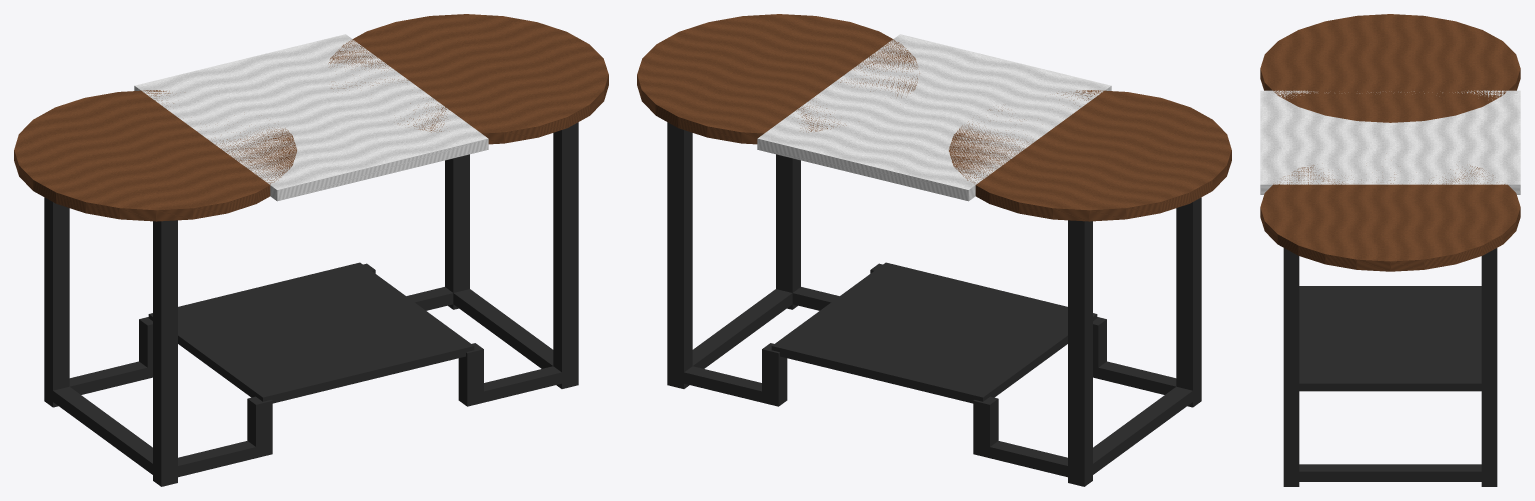
3 renders of one model, left to right at view 1: azimuth 30°, elevation 25°; view 2: azimuth 150°, elevation 25°; view 3: azimuth 270°, elevation 25°, orthographic. The views are drawn at different scales.
Visible parts, largest first — view 1: 1 tabletop_center, 18 lower_shelf, 2 tabletop_left, 3 tabletop_right, 4 leg_front_left, 5 leg_front_right, 6 leg_back_left, 7 leg_back_right, 8 base_rail_left, 9 base_rail_right, 11 lower_rail_front_right, 10 lower_rail_front_left (+5 smaller); view 2: 1 tabletop_center, 18 lower_shelf, 2 tabletop_left, 3 tabletop_right, 6 leg_back_left, 7 leg_back_right, 4 leg_front_left, 5 leg_front_right, 8 base_rail_left, 9 base_rail_right, 13 lower_rail_back_right, 12 lower_rail_back_left (+5 smaller); view 3: 2 tabletop_left, 3 tabletop_right, 1 tabletop_center, 18 lower_shelf, 5 leg_front_right, 7 leg_back_right, 9 base_rail_right, 8 base_rail_left.
Part boxes in pixels (x1=…): 1 tabletop_center: x1=134, y1=34, x2=488, y2=201; 18 lower_shelf: x1=148, y1=262, x2=474, y2=403; 2 tabletop_left: x1=14, y1=90, x2=296, y2=221; 3 tabletop_right: x1=328, y1=14, x2=608, y2=144; 4 leg_front_left: x1=153, y1=220, x2=177, y2=486; 5 leg_front_right: x1=553, y1=122, x2=578, y2=388; 6 leg_back_left: x1=44, y1=197, x2=69, y2=407; 7 leg_back_right: x1=445, y1=154, x2=469, y2=309; 8 base_rail_left: x1=44, y1=385, x2=177, y2=480; 9 base_rail_right: x1=453, y1=289, x2=577, y2=383; 11 lower_rail_front_right: x1=458, y1=366, x2=577, y2=406; 10 lower_rail_front_left: x1=153, y1=441, x2=272, y2=480; 1 tabletop_center: x1=757, y1=34, x2=1111, y2=201; 18 lower_shelf: x1=771, y1=262, x2=1097, y2=403; 2 tabletop_left: x1=949, y1=90, x2=1231, y2=221; 3 tabletop_right: x1=637, y1=14, x2=919, y2=144; 6 leg_back_left: x1=1068, y1=220, x2=1092, y2=486; 7 leg_back_right: x1=667, y1=122, x2=692, y2=388; 4 leg_front_left: x1=1176, y1=197, x2=1201, y2=407; 5 leg_front_right: x1=776, y1=154, x2=800, y2=309; 8 base_rail_left: x1=1068, y1=385, x2=1201, y2=480; 9 base_rail_right: x1=667, y1=289, x2=792, y2=383; 13 lower_rail_back_right: x1=667, y1=366, x2=787, y2=406; 12 lower_rail_back_left: x1=973, y1=441, x2=1092, y2=480; 2 tabletop_left: x1=1260, y1=14, x2=1520, y2=122; 3 tabletop_right: x1=1260, y1=165, x2=1520, y2=271; 1 tabletop_center: x1=1260, y1=90, x2=1520, y2=194; 18 lower_shelf: x1=1299, y1=289, x2=1481, y2=391; 5 leg_front_right: x1=1283, y1=248, x2=1299, y2=486; 7 leg_back_right: x1=1481, y1=248, x2=1497, y2=486; 9 base_rail_right: x1=1284, y1=464, x2=1496, y2=481; 8 base_rail_left: x1=1299, y1=286, x2=1481, y2=289.
Bounding box in the file's own units: 2.07 × 1 × 0.92.
3 materials, 2 textured.
